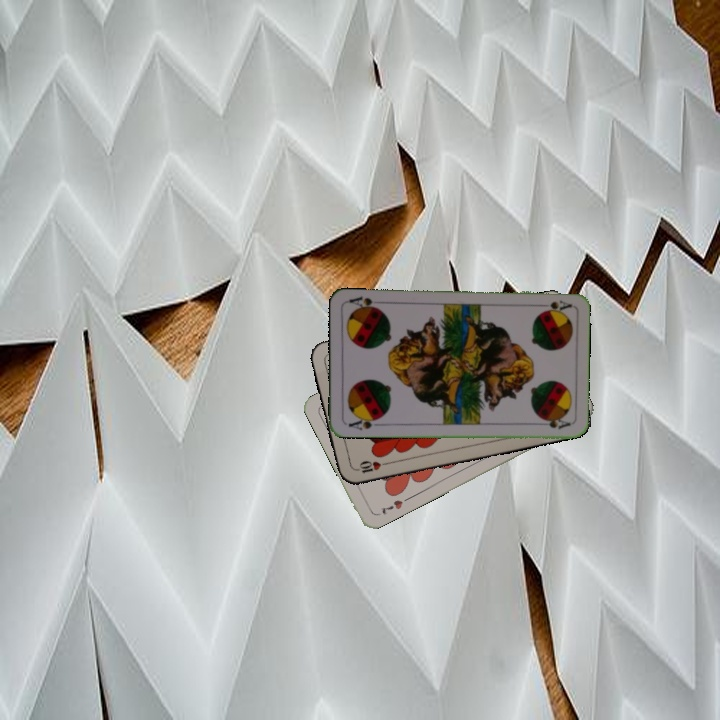H10: (352, 457, 392, 476)
H7: (377, 495, 406, 517)
SA: (344, 413, 384, 433), (533, 297, 574, 314)
